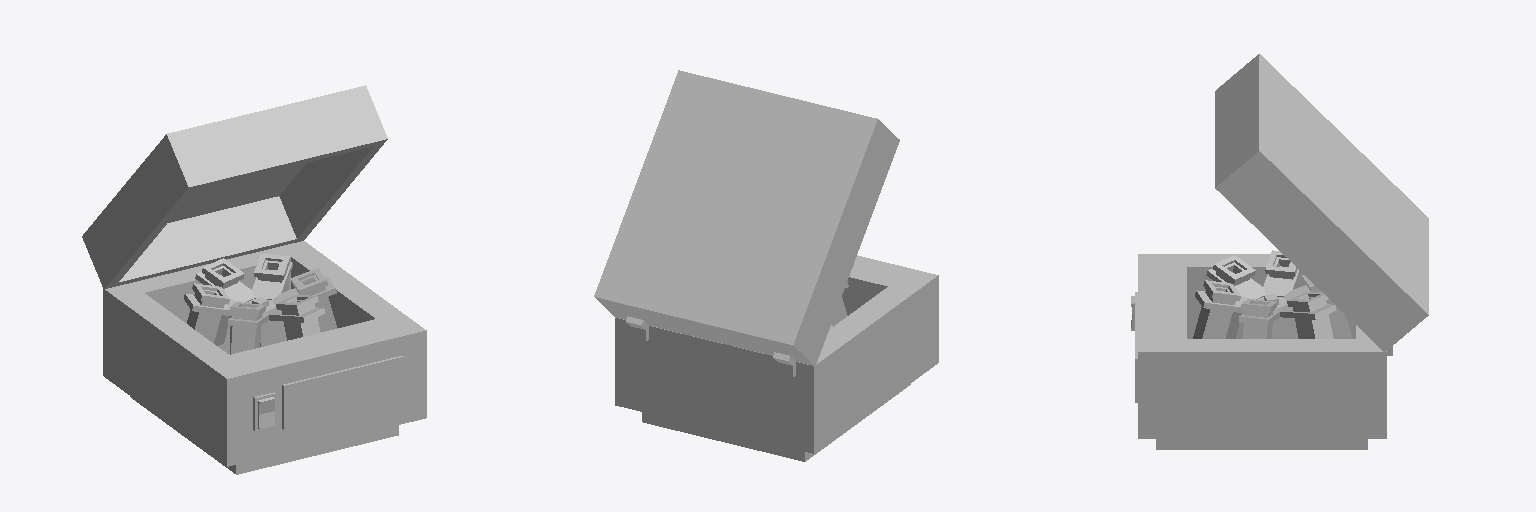
Rendered from Centrifuge.obj.
3 renders of one model, left to right at view 1: azimuth 30°, elevation 25°; view 2: azimuth 150°, elevation 25°; view 3: azimuth 270°, elevation 25°, orthographic.
Bounding box in the file's own units: 2.38 × 3.5 × 3.07.